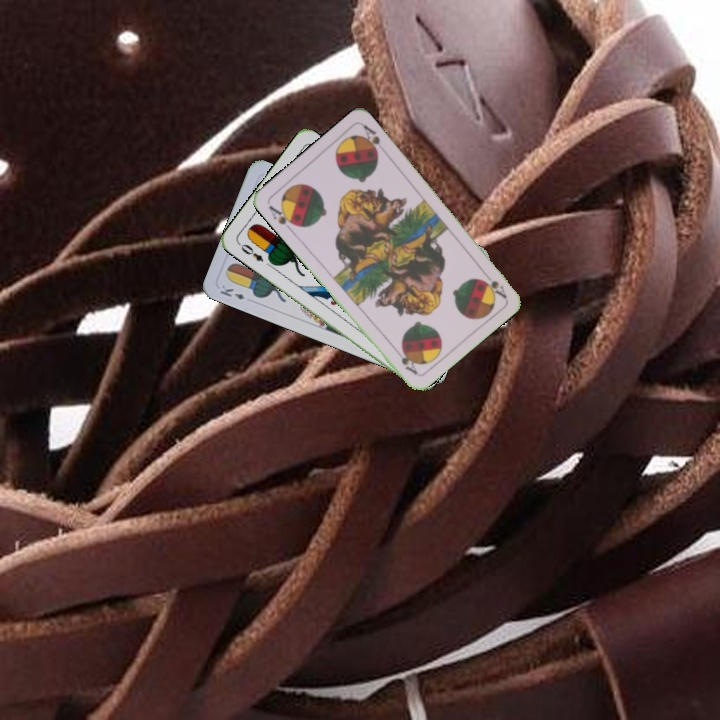EK: (216, 281, 247, 302)
EO: (234, 239, 266, 264)
SA: (264, 201, 300, 234), (478, 267, 509, 301)
